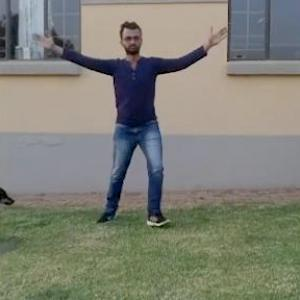takeoff: (59, 20, 235, 207)
